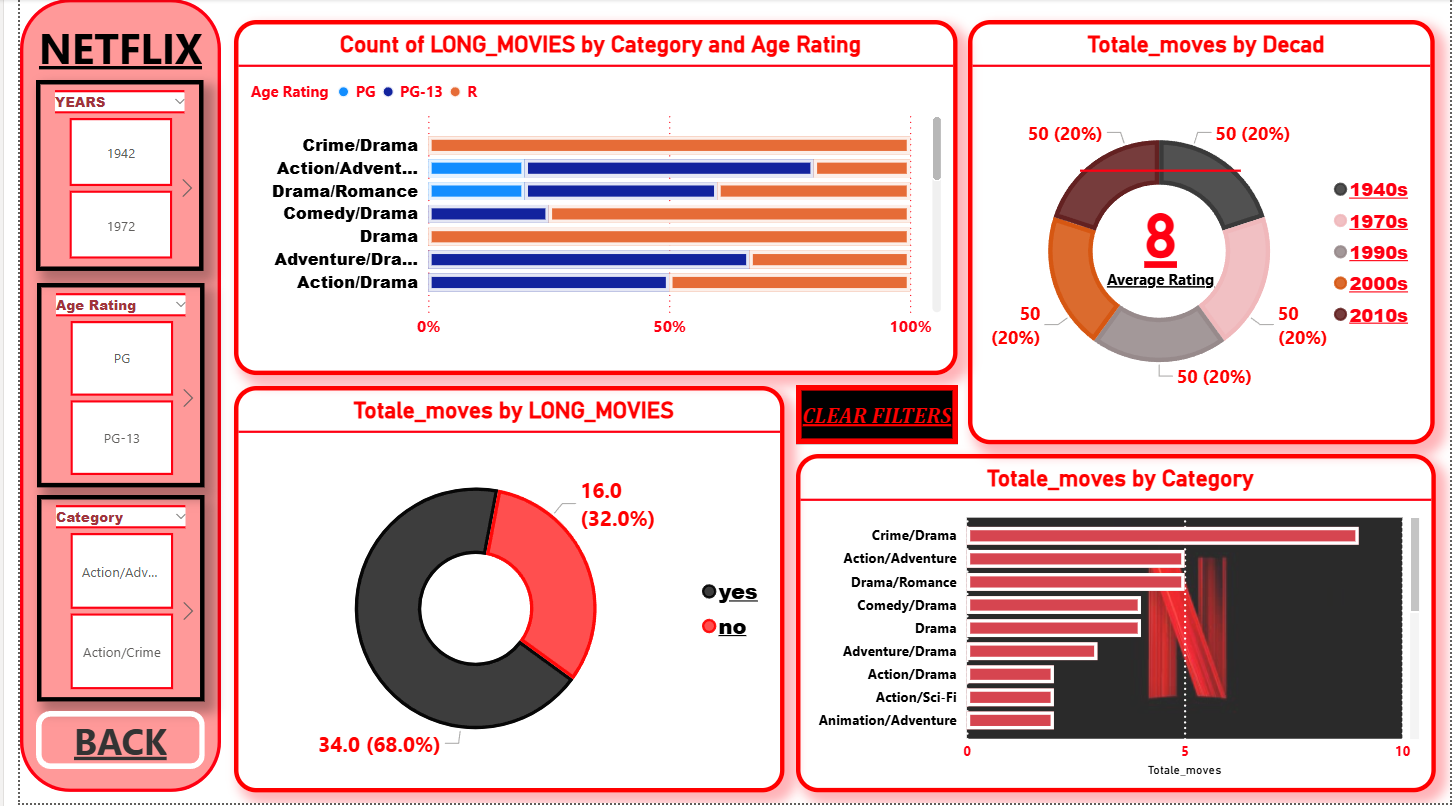

The dashboard page shown, as its layout file describes it:
{"tool":"powerbi","page":{"name":"Page 3","canvas":[1280,720],"ordinal":2},"visuals":[{"type":"hundredPercentStackedBarChart","fields":{"Category":["Movies.Category"],"Y":["CountNonNull(Movies.LONG_MOVIES)"],"Series":["Movies.Age Rating"]},"box":[191.7,19.2,648.5,318],"z":0},{"type":"shape","box":[0,0,180,710.1],"z":1000},{"type":"slicer","fields":{"Values":["Drama_Movies.Year"]},"box":[14.3,72.5,150.4,171],"z":2000},{"type":"slicer","fields":{"Values":["Movies.Age Rating"]},"box":[15.2,254.3,150.4,182.7],"z":3000},{"type":"slicer","fields":{"Values":["Movies.Category"]},"box":[15.2,444.2,150.4,185.4],"z":4000},{"type":"donutChart","fields":{"Y":["Movies.Totale_moves"],"Category":["Drama_Movies.Decad"]},"box":[849.2,19.2,418.4,380.1],"z":5000},{"type":"donutChart","fields":{"Y":["Movies.Totale_moves"],"Category":["Movies.LONG_MOVIES"]},"box":[191.7,346.2,492.8,364.3],"z":6000},{"type":"clusteredBarChart","fields":{"Category":["Movies.Category"],"Y":["Movies.Totale_moves"]},"box":[694.7,407.1,572.9,303.4],"z":7000},{"type":"shape","box":[14.3,637.6,151.3,51.9],"z":8000},{"type":"actionButton","box":[694.9,345.7,145.1,52.8],"z":9000},{"type":"card","fields":{"Values":["Movies.Average Rating"]},"box":[949.6,147.7,144.4,122.9],"z":10000}]}

Visuals, with their boxes in screenshot pixels (x1, y1, x2, y2), scaled from the page's 1280x720 canvas onto the 1454x806 screenshot:
hundredPercentStackedBarChart - Movies.Category x CountNonNull(Movies.LONG_MOVIES): box=[218, 21, 954, 377]
shape: box=[0, 0, 204, 795]
slicer - Drama_Movies.Year: box=[16, 81, 187, 273]
slicer - Movies.Age Rating: box=[17, 285, 188, 489]
slicer - Movies.Category: box=[17, 497, 188, 705]
donutChart - Movies.Totale_moves x Drama_Movies.Decad: box=[965, 21, 1440, 447]
donutChart - Movies.Totale_moves x Movies.LONG_MOVIES: box=[218, 388, 778, 795]
clusteredBarChart - Movies.Category x Movies.Totale_moves: box=[789, 456, 1440, 795]
shape: box=[16, 714, 188, 772]
actionButton: box=[789, 387, 954, 446]
card - Movies.Average Rating: box=[1079, 165, 1243, 303]
